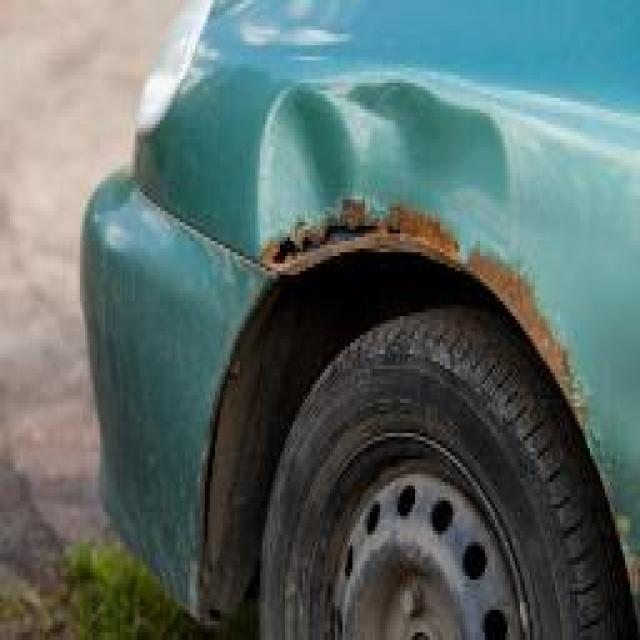Bumper: (211, 48, 640, 622)
